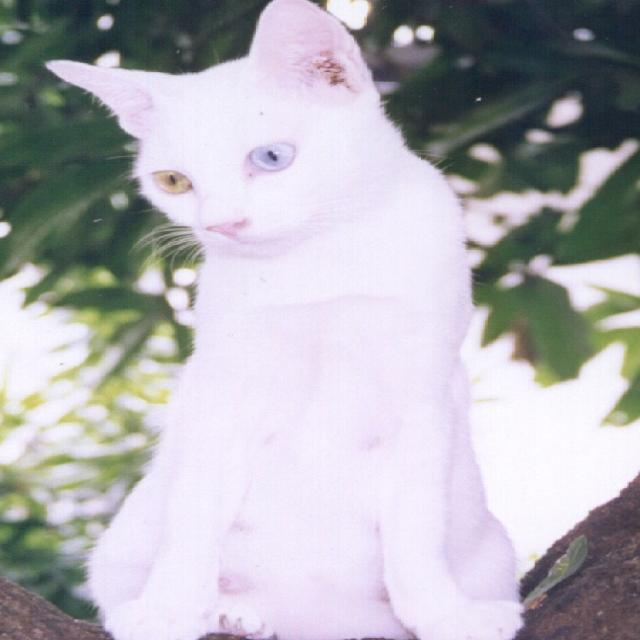Khao Manee: (39, 0, 536, 640)
